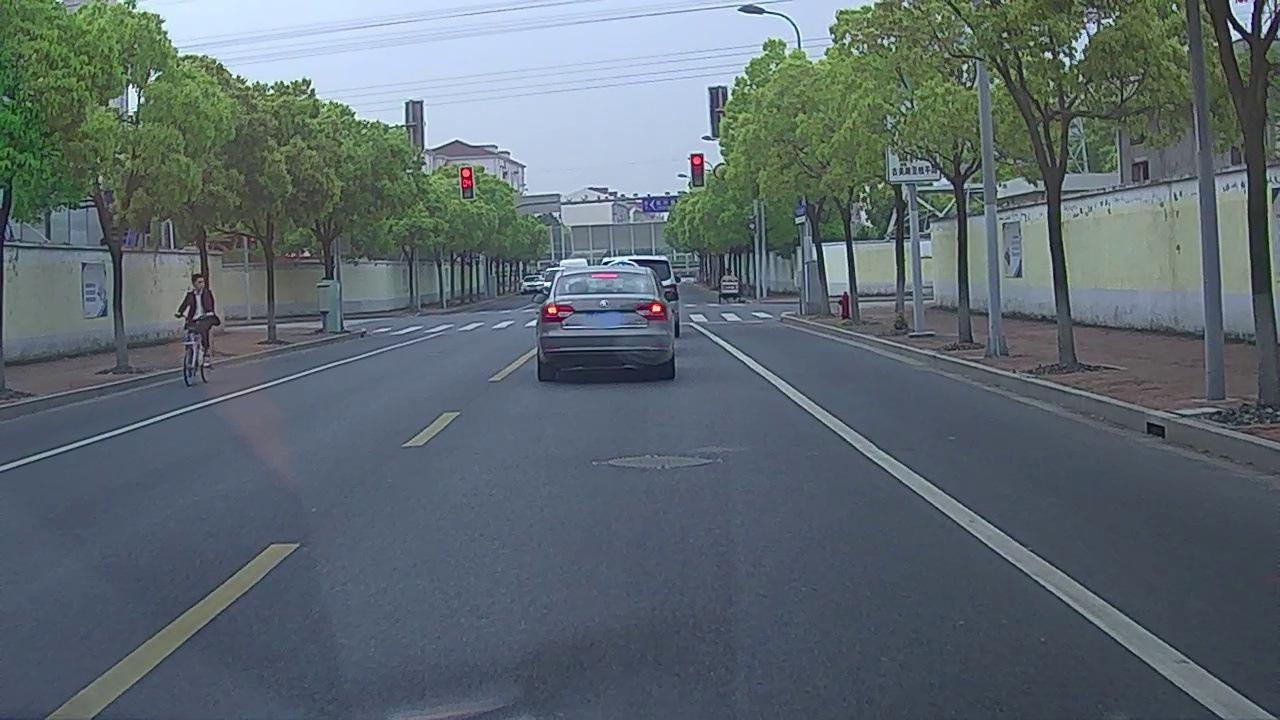traffic_light: (691, 154, 705, 187), (461, 167, 474, 201)
